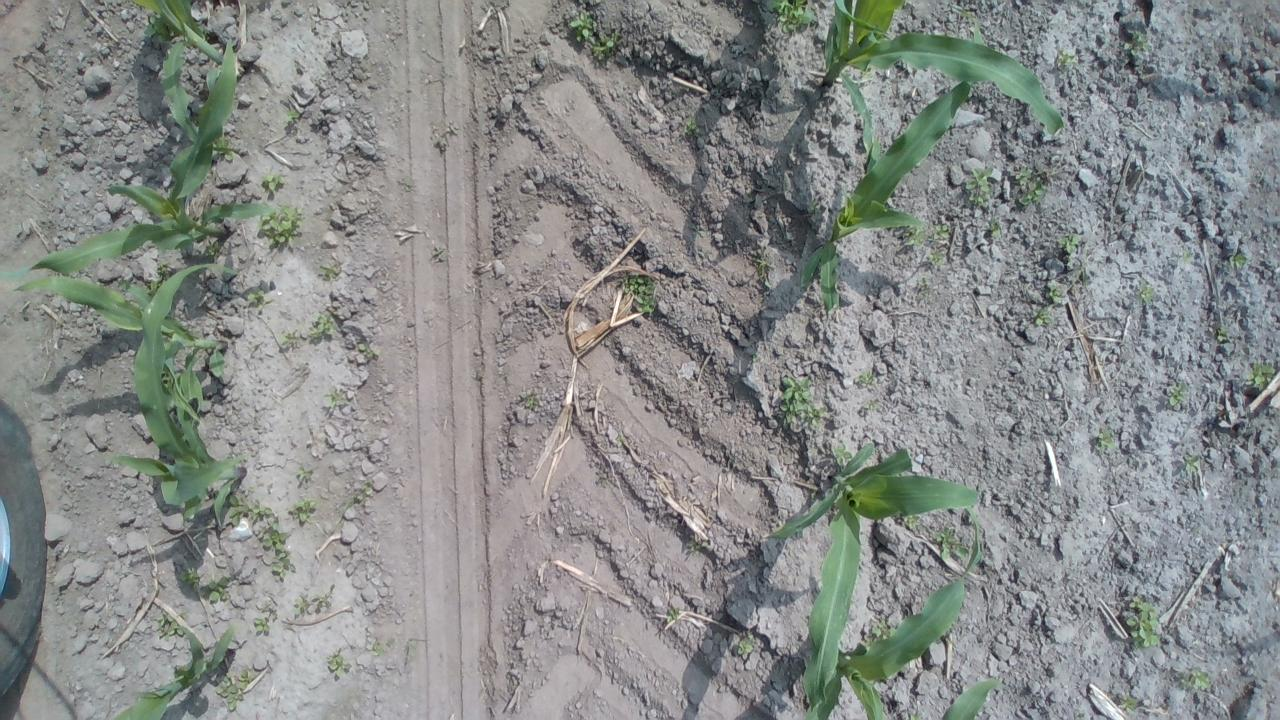Maize: (750, 432, 981, 720), (12, 40, 270, 289), (797, 65, 993, 330), (12, 271, 256, 476), (791, 3, 1071, 156), (104, 267, 253, 554), (810, 518, 993, 720), (122, 0, 253, 164), (97, 612, 250, 720)
Weeds: (772, 372, 826, 434), (1122, 596, 1166, 651), (256, 205, 304, 252), (258, 522, 296, 581), (1005, 162, 1052, 207), (618, 269, 659, 319), (763, 0, 820, 35), (220, 494, 280, 527), (212, 666, 252, 714), (965, 162, 994, 216), (930, 526, 966, 562), (860, 617, 899, 650), (293, 585, 332, 617), (590, 29, 623, 66), (1120, 26, 1154, 61), (306, 311, 340, 343), (144, 262, 178, 294), (676, 115, 707, 150), (342, 478, 378, 508), (729, 635, 768, 662), (324, 648, 355, 681), (1091, 426, 1125, 456), (284, 495, 320, 523), (566, 9, 595, 42), (201, 577, 235, 605), (238, 286, 274, 312), (155, 612, 187, 640), (1050, 48, 1083, 74), (248, 605, 274, 638), (1183, 664, 1210, 695), (355, 332, 381, 364), (1044, 276, 1070, 308), (1247, 365, 1276, 393), (1176, 453, 1204, 481), (1163, 382, 1192, 409), (1114, 693, 1146, 717), (680, 532, 712, 556), (326, 386, 354, 413), (656, 600, 684, 626), (278, 326, 306, 352), (314, 256, 342, 282), (1030, 305, 1056, 332), (258, 173, 286, 197), (919, 246, 948, 269), (900, 224, 925, 250), (830, 444, 856, 469), (176, 565, 204, 588), (1057, 232, 1081, 258), (1134, 281, 1160, 305), (294, 464, 318, 488), (981, 214, 1004, 238), (200, 239, 221, 265), (929, 221, 955, 242), (612, 430, 632, 456), (428, 244, 451, 266), (1221, 250, 1246, 267), (369, 638, 388, 660), (801, 196, 818, 220), (522, 395, 542, 415), (754, 254, 770, 279), (858, 368, 876, 390), (1214, 322, 1230, 344), (1179, 246, 1195, 266), (286, 106, 301, 126), (901, 514, 921, 528), (863, 396, 879, 411), (402, 176, 416, 192)
